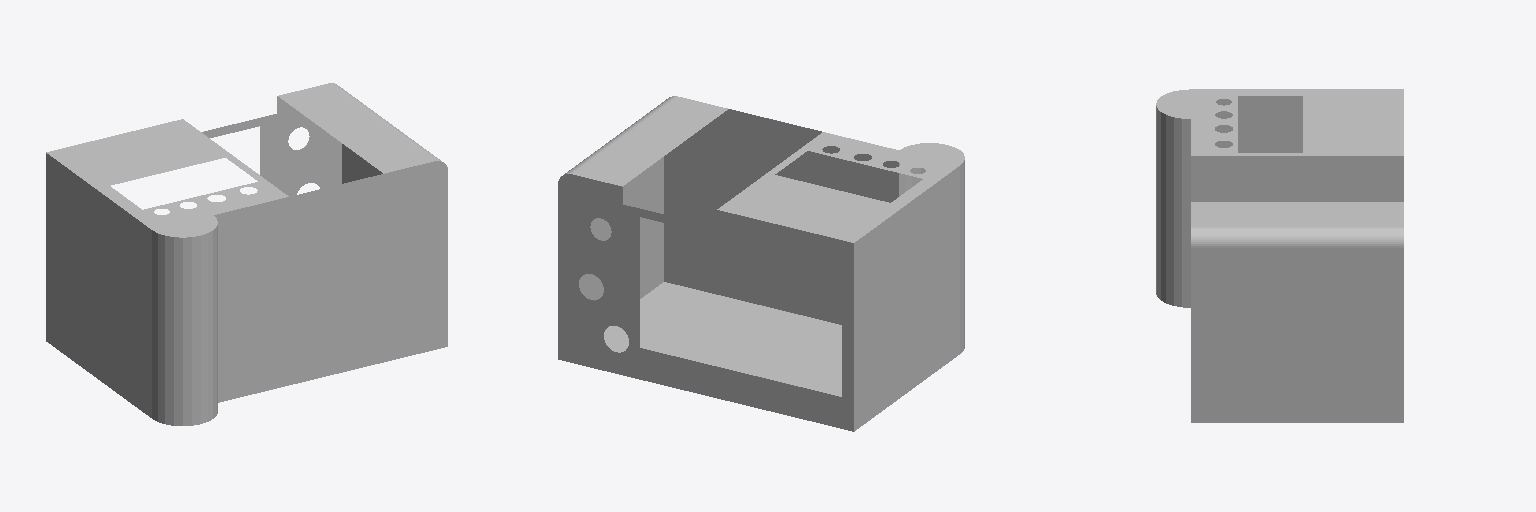
Rendered from original-39.obj.
3 views of the same model, side by side, from view 1: azimuth 30°, elevation 25°; view 2: azimuth 150°, elevation 25°; view 3: azimuth 270°, elevation 25° (orthographic).
Visible parts, largest first — view 1: mesh42/mesh42-geometry/material_1#mesh42-geometry; view 2: mesh42/mesh42-geometry/material_1#mesh42-geometry; view 3: mesh42/mesh42-geometry/material_1#mesh42-geometry.
Part boxes in pixels (x1,y1,x2,y2): mesh42/mesh42-geometry/material_1#mesh42-geometry: (46,83,447,425); mesh42/mesh42-geometry/material_1#mesh42-geometry: (558,96,964,431); mesh42/mesh42-geometry/material_1#mesh42-geometry: (1156,89,1403,422).
Bounding box in the file's own units: 1.15 × 0.6994 × 0.8332.